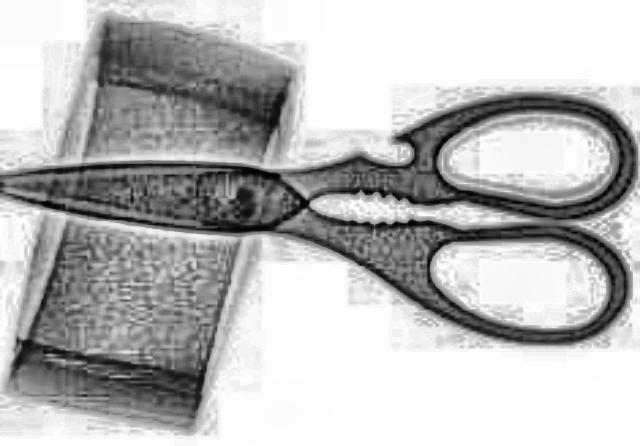Scissors: (1, 52, 636, 350)
